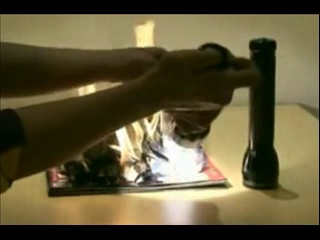fire: (116, 113, 161, 160), (133, 19, 154, 47), (79, 82, 96, 97)
